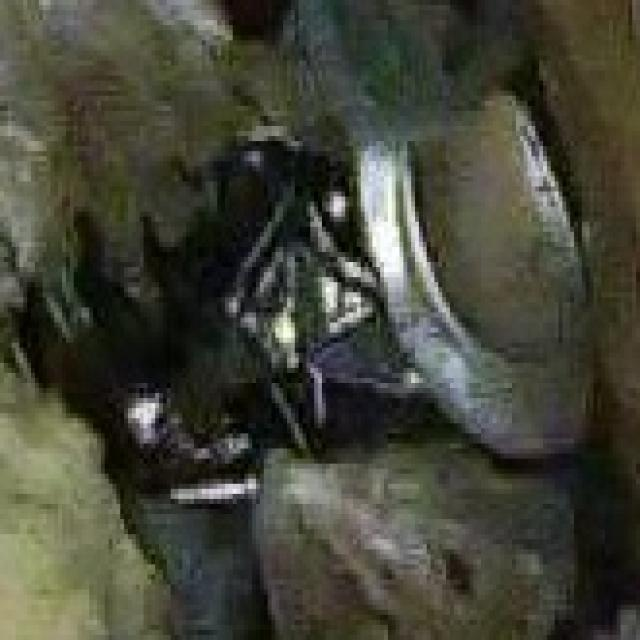can: (37, 113, 617, 475)
